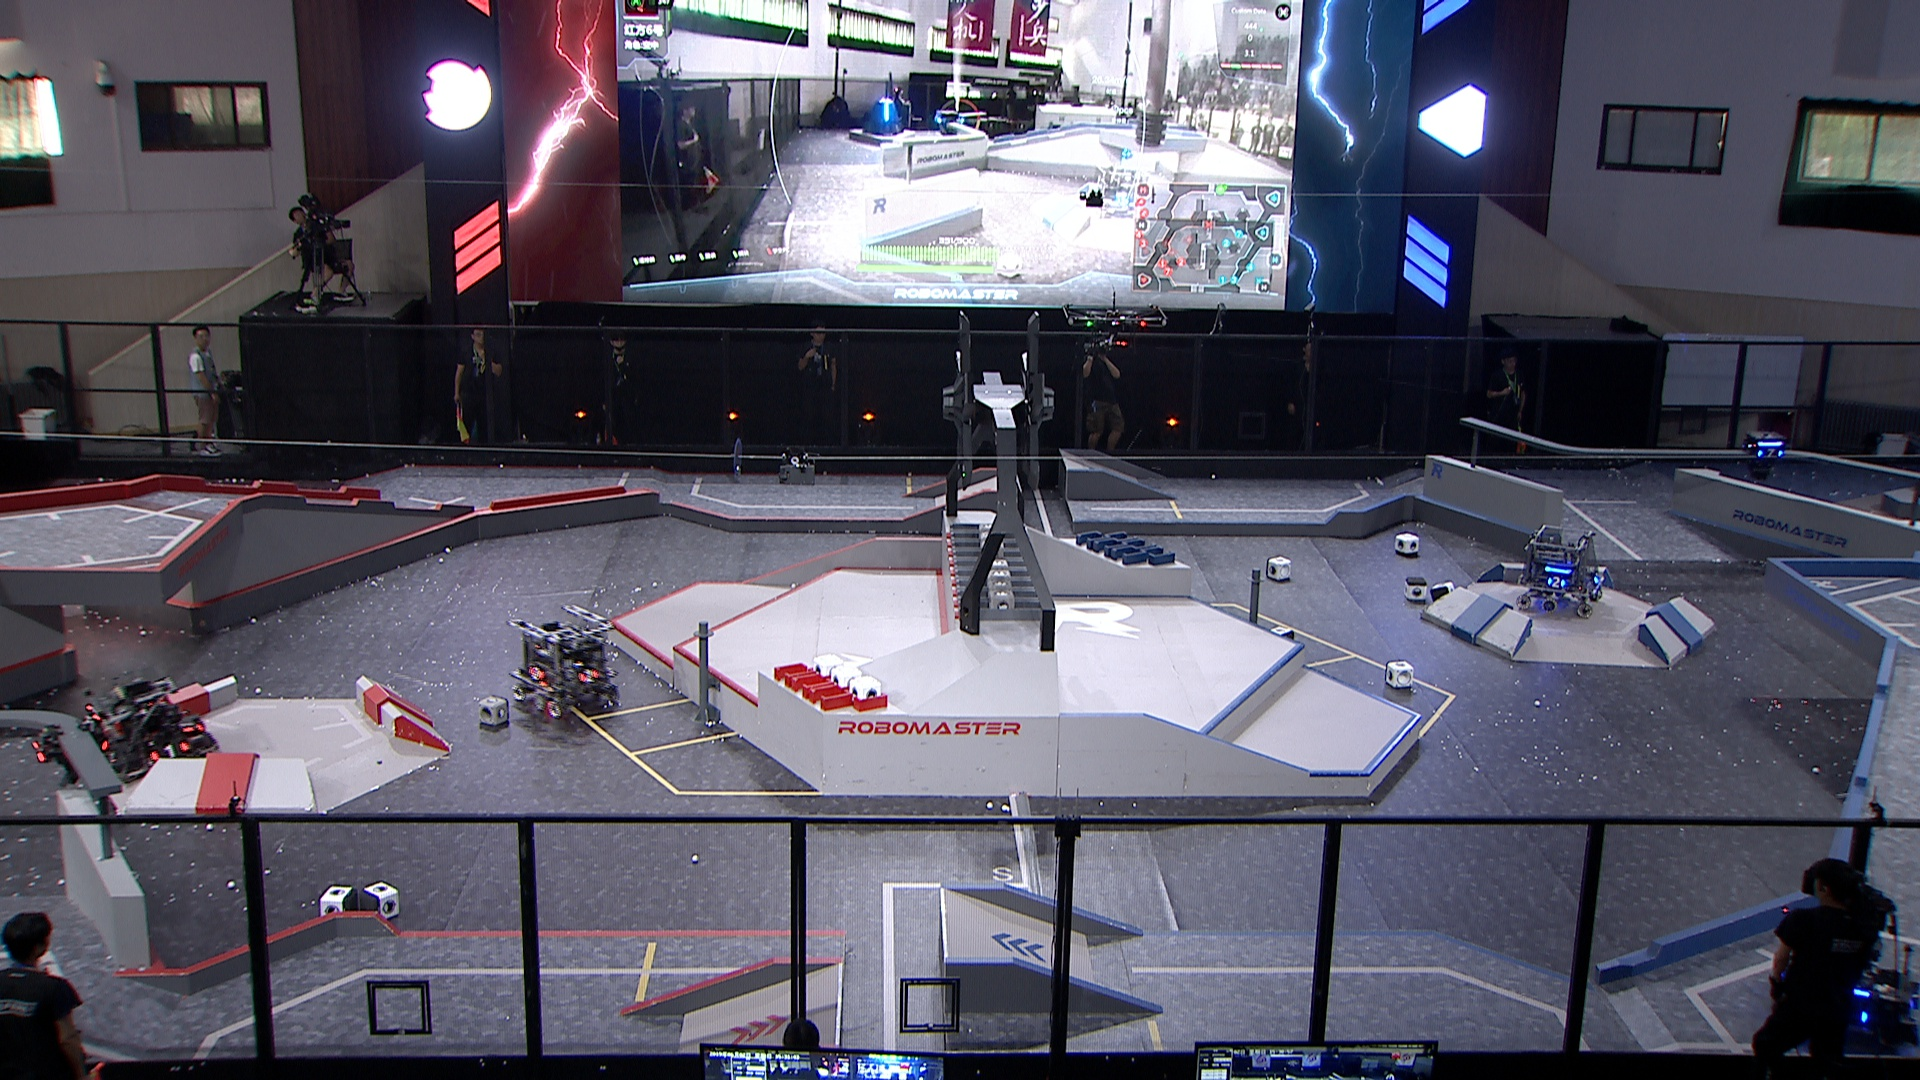armor: (149, 742, 193, 765), (173, 713, 202, 735), (524, 662, 550, 684), (30, 738, 49, 769), (574, 665, 600, 684), (1543, 572, 1569, 591), (1755, 448, 1787, 462), (1590, 567, 1607, 589)
car: (1778, 924, 1920, 1046), (69, 675, 218, 781), (505, 604, 624, 717), (1510, 518, 1613, 618)
ignore: (861, 96, 906, 136), (931, 105, 965, 138)
watcher: (30, 702, 113, 790), (1738, 425, 1789, 484)
